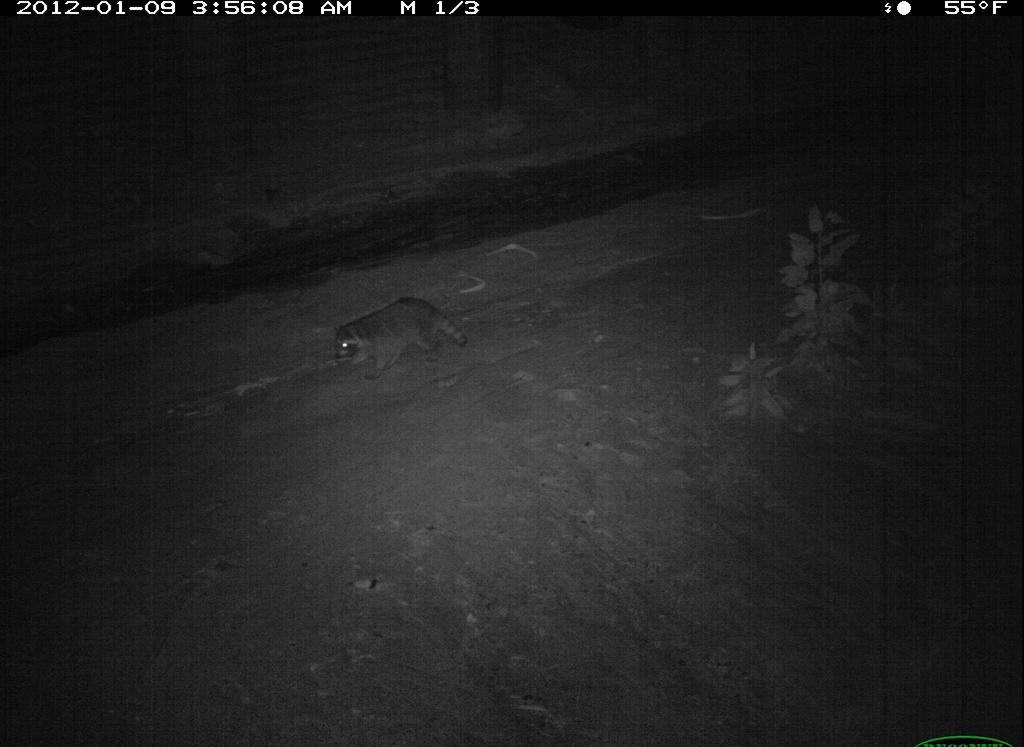raccoon: (313, 285, 484, 388)
